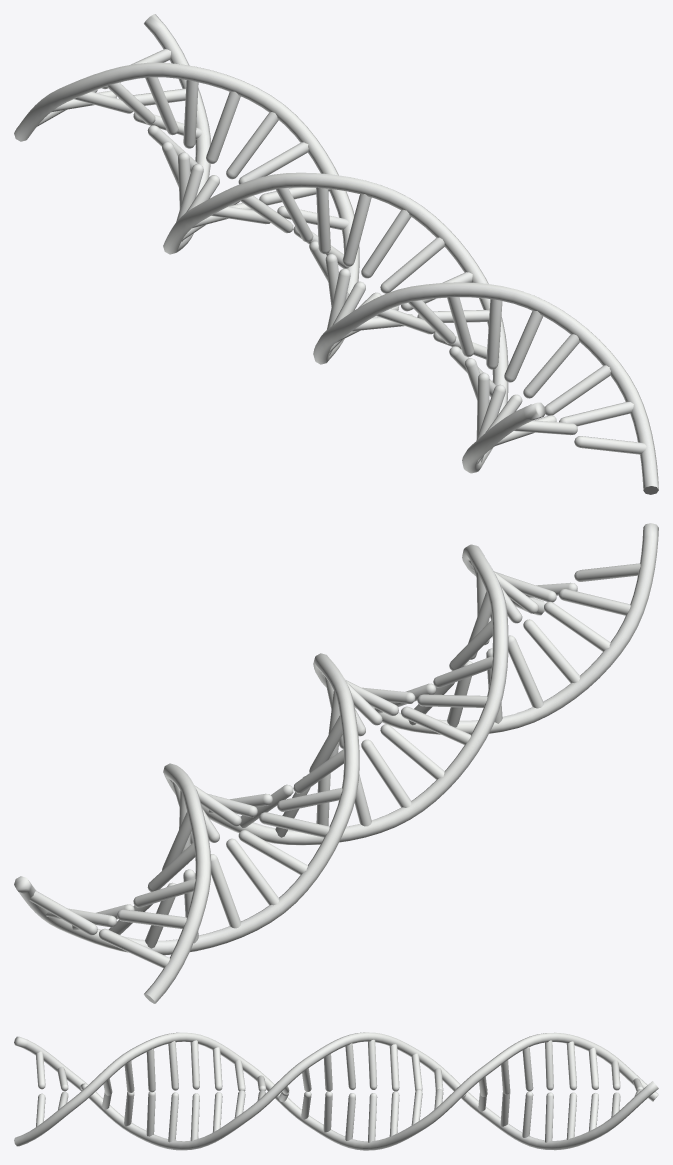
Rendered from dna2.gltf.
3 views of the same model, one above another, from view 1: azimuth 30°, elevation 25°; view 2: azimuth 150°, elevation 25°; view 3: azimuth 270°, elevation 25° (orthographic). The views are drawn at different scales.
Parts seen in each view (by area): view 1: 扫描, 扫描1, 胶囊_7, 胶囊_44, 胶囊_43, 胶囊_24, 胶囊_25, 胶囊_23, 胶囊_6, 胶囊_42, 胶囊_22, 胶囊_27 (+11 smaller); view 2: 扫描1, 扫描, 胶囊_15, 胶囊_35, 胶囊_52, 胶囊_16, 胶囊_53, 胶囊_36, 胶囊, 胶囊_51, 胶囊_17, 胶囊_28 (+12 smaller); view 3: 扫描, 扫描1, 胶囊_49, 胶囊_32, 胶囊_4, 胶囊_40, 胶囊_3, 胶囊_21, 胶囊_12, 胶囊_20, 胶囊_39, 胶囊_13 (+27 smaller).
Part boxes in pixels (x1,y1,x2,y2): 扫描: [14, 62, 658, 494]; 扫描1: [144, 14, 545, 473]; 胶囊_7: [226, 112, 278, 179]; 胶囊_44: [380, 237, 444, 293]; 胶囊_43: [361, 209, 410, 278]; 胶囊_24: [523, 334, 579, 398]; 胶囊_25: [545, 365, 610, 415]; 胶囊_23: [504, 311, 542, 382]; 胶囊_6: [206, 91, 240, 163]; 胶囊_42: [342, 194, 371, 266]; 胶囊_22: [486, 299, 502, 369]; 胶囊_27: [574, 436, 646, 454]; 扫描1: [14, 523, 658, 955]; 扫描: [144, 544, 544, 1003]; 胶囊_15: [361, 739, 411, 807]; 胶囊_35: [226, 838, 278, 905]; 胶囊_52: [523, 619, 579, 683]; 胶囊_16: [380, 724, 444, 779]; 胶囊_53: [544, 601, 610, 651]; 胶囊_36: [238, 830, 307, 874]; 胶囊: [99, 928, 169, 968]; 胶囊_51: [508, 635, 543, 708]; 胶囊_17: [401, 706, 470, 744]; 胶囊_28: [29, 890, 97, 935]; 扫描: [14, 1032, 658, 1150]; 扫描1: [14, 1032, 658, 1150]; 胶囊_49: [168, 1092, 178, 1142]; 胶囊_32: [545, 1092, 553, 1142]; 胶囊_4: [545, 1040, 553, 1090]; 胶囊_40: [368, 1039, 377, 1089]; 胶囊_3: [566, 1041, 576, 1090]; 胶囊_21: [168, 1041, 178, 1090]; 胶囊_12: [368, 1093, 377, 1142]; 胶囊_20: [190, 1040, 199, 1089]; 胶囊_39: [389, 1044, 399, 1091]; 胶囊_13: [345, 1093, 355, 1140].
Bounding box in the file's own units: 1.09 × 1.09 × 5.91.
Materials: 1 (1 with a texture image).
